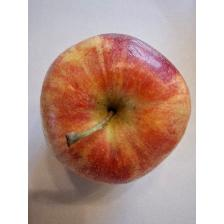Apfel: (38, 29, 194, 188)
